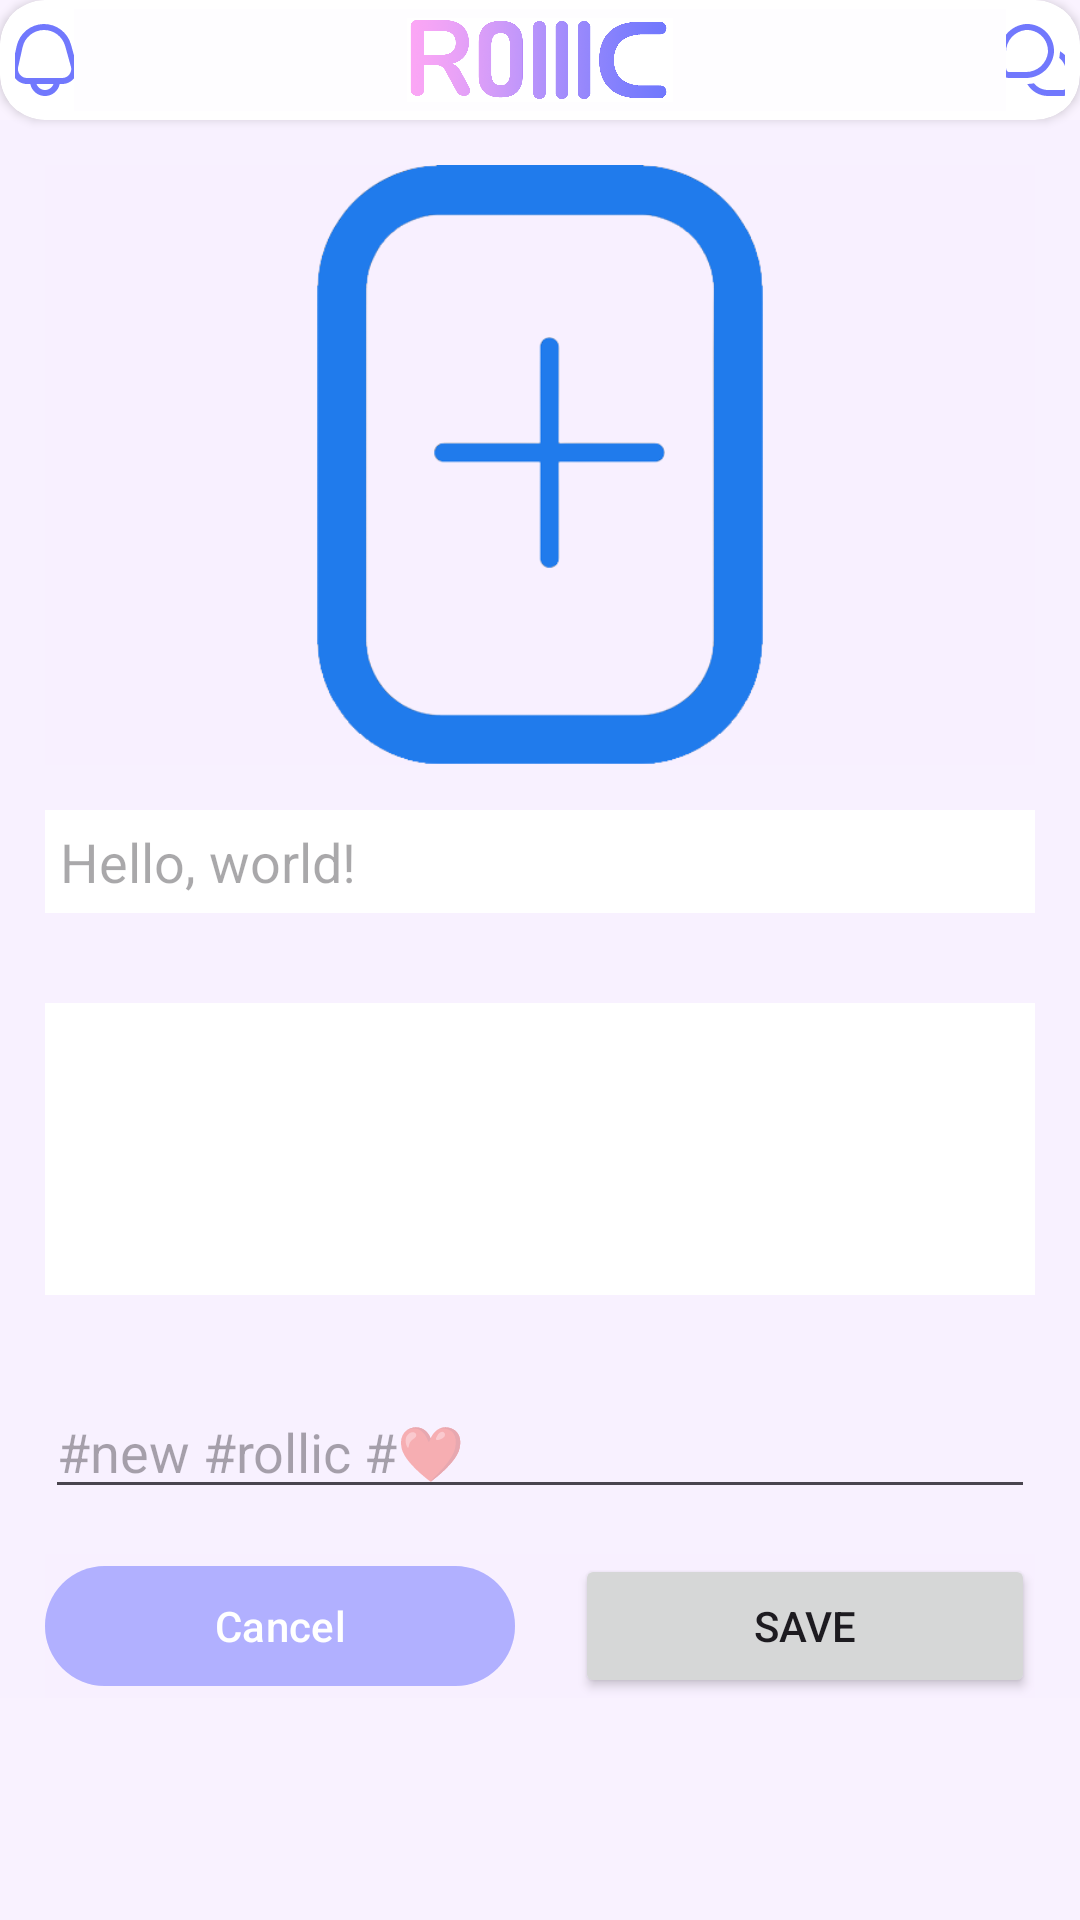

Icons on this 1080*1920 Android screen, each with its box as (x1, y1, x2, y2):
Notifications: (15, 24, 74, 96)
